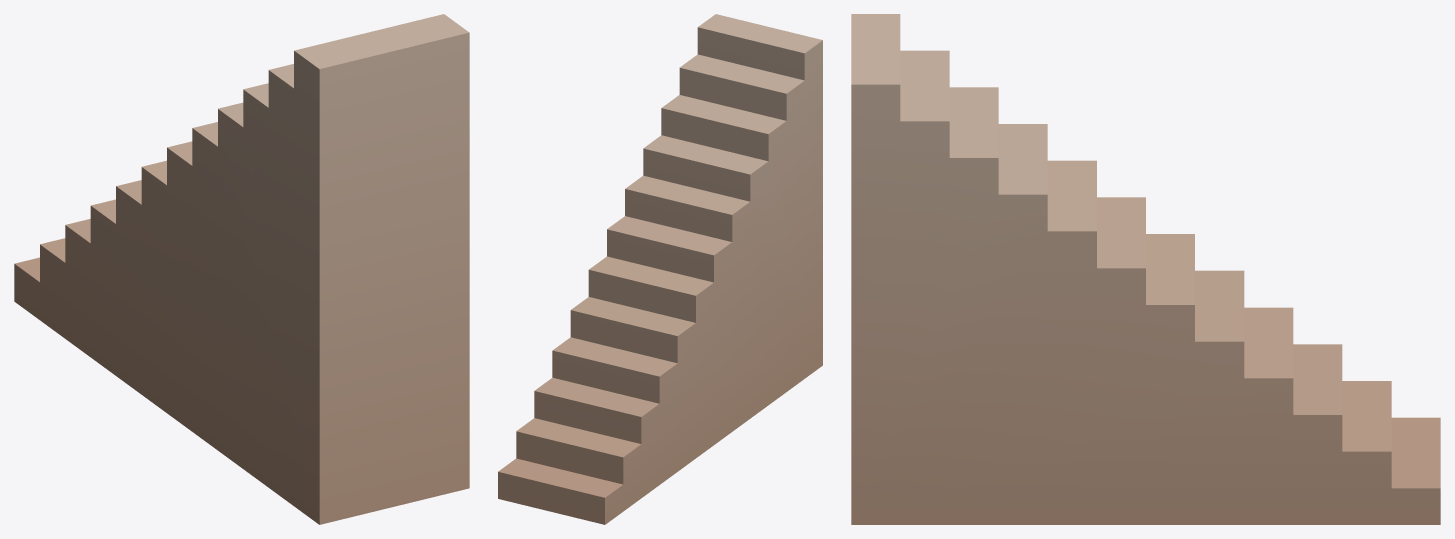
File: stairs-stone-square.glb
The picture shows the model from 3 angles, left to right: view 1: azimuth 30°, elevation 25°; view 2: azimuth 150°, elevation 25°; view 3: azimuth 270°, elevation 25°; orthographic projection. The views are drawn at different scales.
Parts seen in each view (by area): view 1: stairs-stone-square; view 2: stairs-stone-square; view 3: stairs-stone-square.
Part boxes in pixels (x1,y1,x2,y2): stairs-stone-square: (14, 14, 469, 524); stairs-stone-square: (498, 14, 822, 524); stairs-stone-square: (851, 14, 1440, 524).
Size of the model in its own units: 0.2325 by 0.675 by 0.819.
